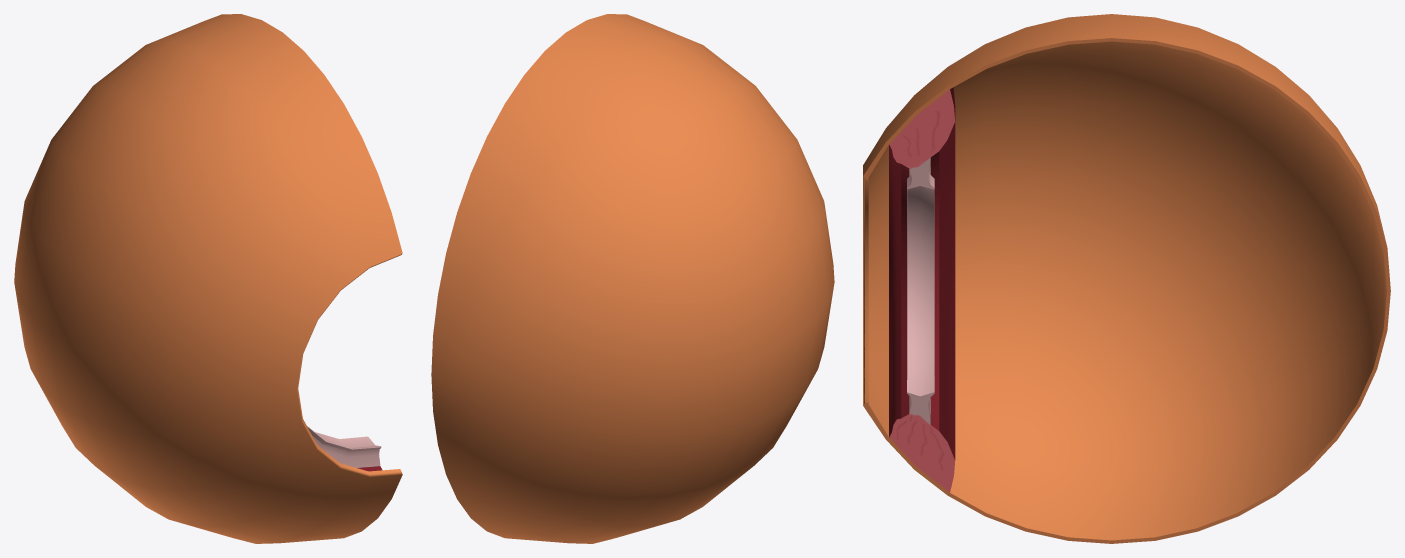
File: yanQiu.fbx
3 views of the same model, side by side, from view 1: azimuth 30°, elevation 25°; view 2: azimuth 150°, elevation 25°; view 3: azimuth 270°, elevation 25° (orthographic). The views are drawn at different scales.
Parts seen in each view (by area): view 1: yanQiu; view 2: yanQiu; view 3: yanQiu.
Part boxes in pixels (box(x1,y1,x2,y2)): yanQiu: box(14, 14, 402, 543); yanQiu: box(431, 14, 834, 543); yanQiu: box(863, 14, 1390, 543).
Bounding box in the file's own units: 1.2 × 2.4 × 2.27.
